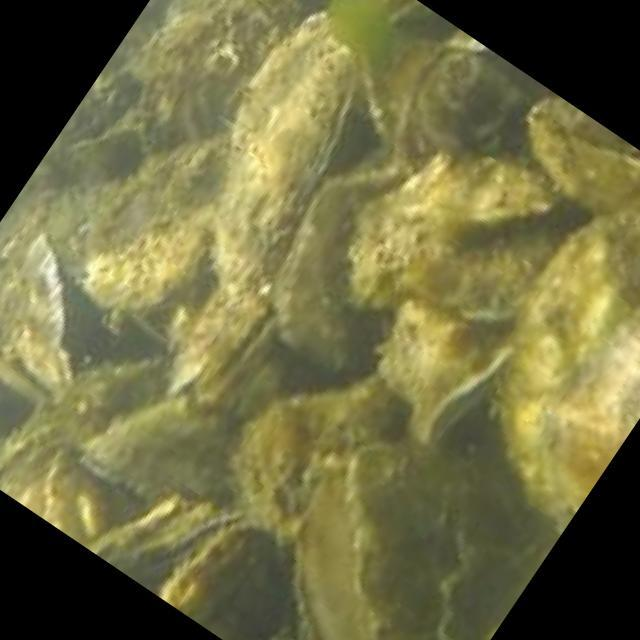Oyster- Indeterminate: (295, 439, 553, 640), (70, 357, 321, 543), (204, 337, 417, 548), (502, 212, 640, 535), (345, 188, 598, 326), (76, 114, 233, 326), (356, 284, 521, 460), (273, 169, 403, 374), (133, 238, 289, 400), (153, 515, 329, 640), (397, 44, 556, 181), (25, 445, 153, 565), (340, 24, 442, 156), (403, 152, 560, 231), (9, 235, 81, 398), (116, 3, 217, 93)
Oyster-Closed: (190, 291, 289, 412), (121, 502, 248, 593), (86, 485, 192, 571), (73, 89, 167, 173)
